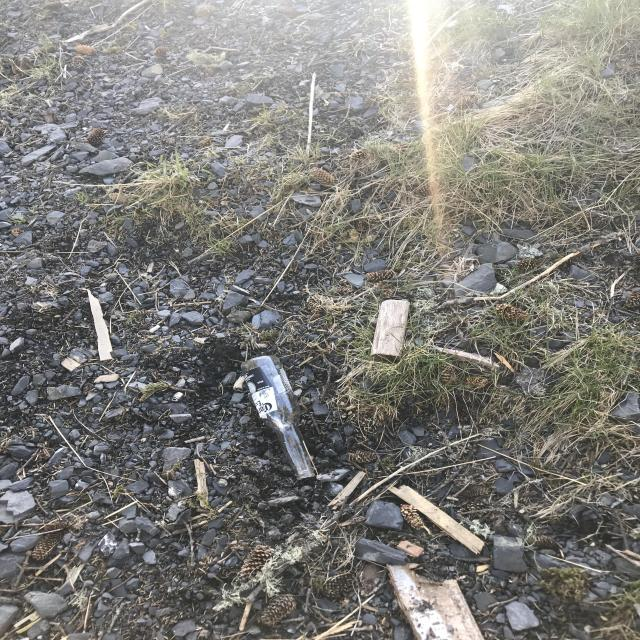litter: (473, 243, 640, 301)
